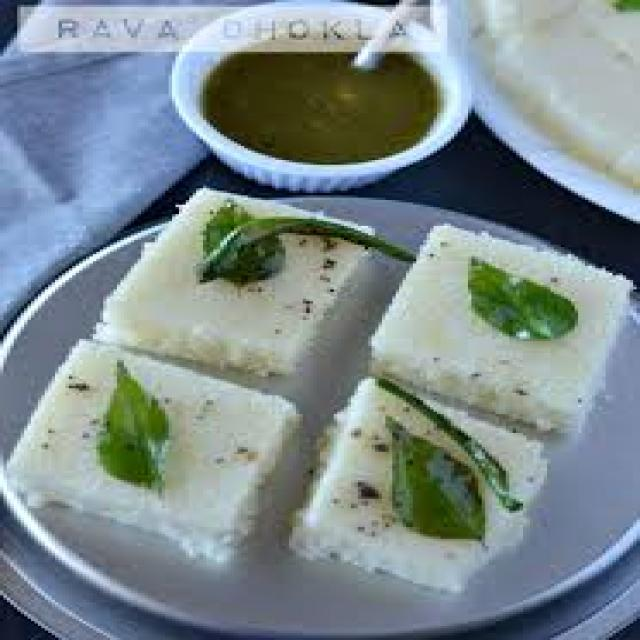DHOKLA: (6, 340, 308, 572), (276, 379, 555, 601), (370, 224, 637, 447), (87, 183, 380, 383)
